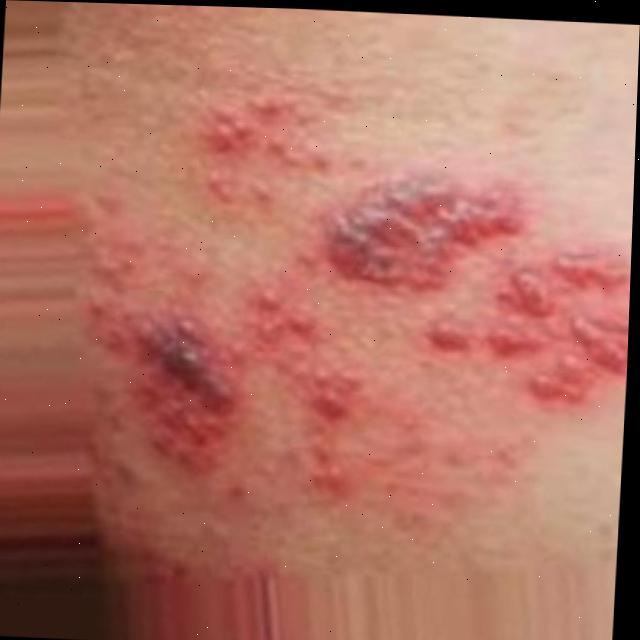Shingles: (420, 235, 632, 404), (236, 275, 368, 502), (319, 162, 530, 301), (91, 288, 242, 478), (192, 68, 339, 212)
